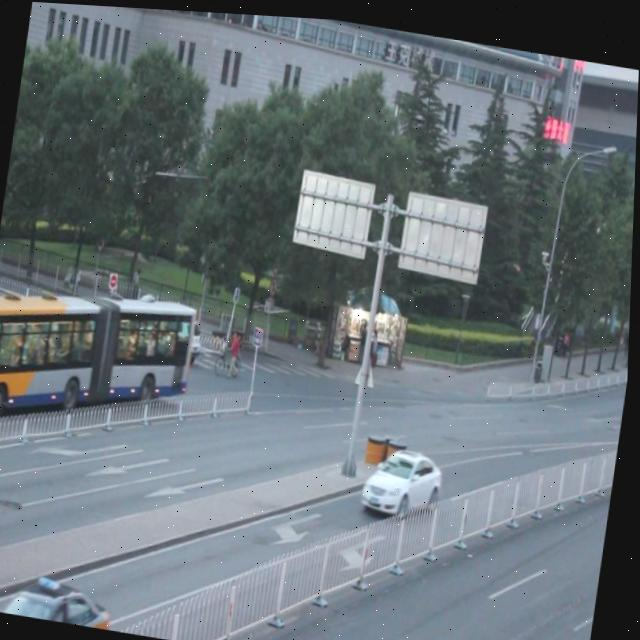car: (362, 431, 450, 522), (0, 565, 121, 628), (137, 292, 208, 359)
van: (0, 270, 201, 440)
